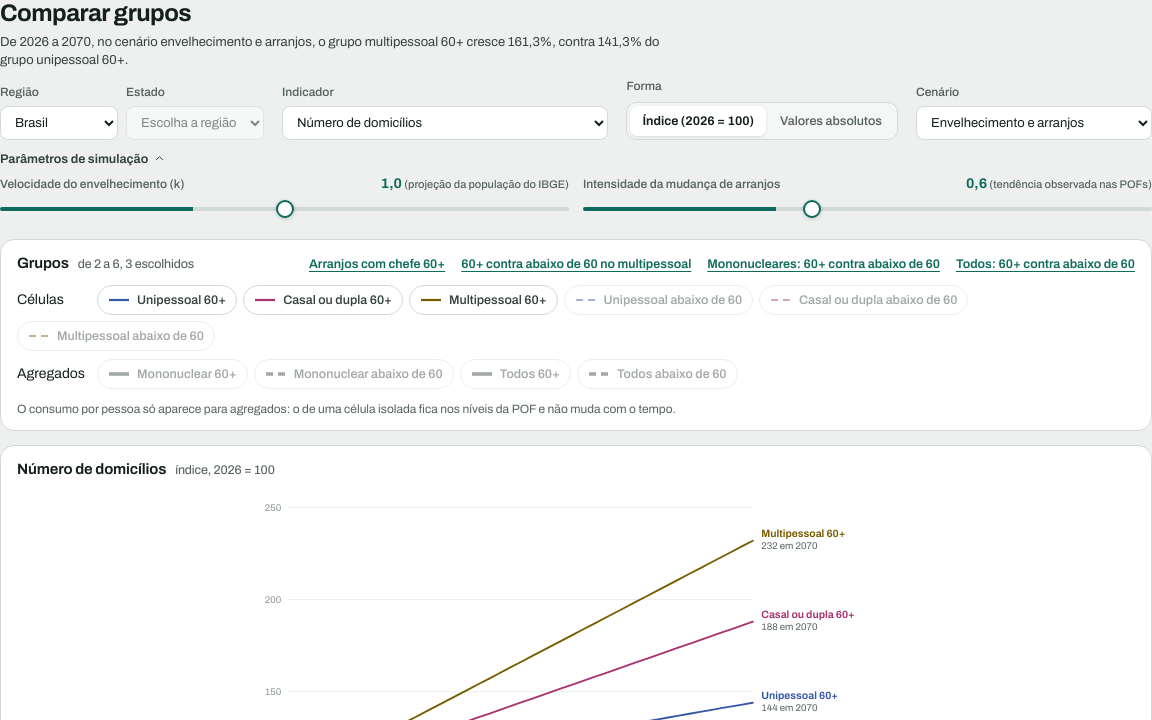
Scenario: Comparar › o consumo por pessoa só fica disponível com agregados, e a página explica por quê
The width and height of the screenshot is (1152, 720).
Expected: the text with test id "explica-por-pessoa" shows "O consumo por pessoa só aparece para agregados: o de uma célula isolada fica nos níveis da POF e não muda com o tempo.", [17, 402, 676, 416]
Click the button "Mononucleares: 60+ contra abaixo de 60" at (824, 264), box [707, 258, 940, 272]
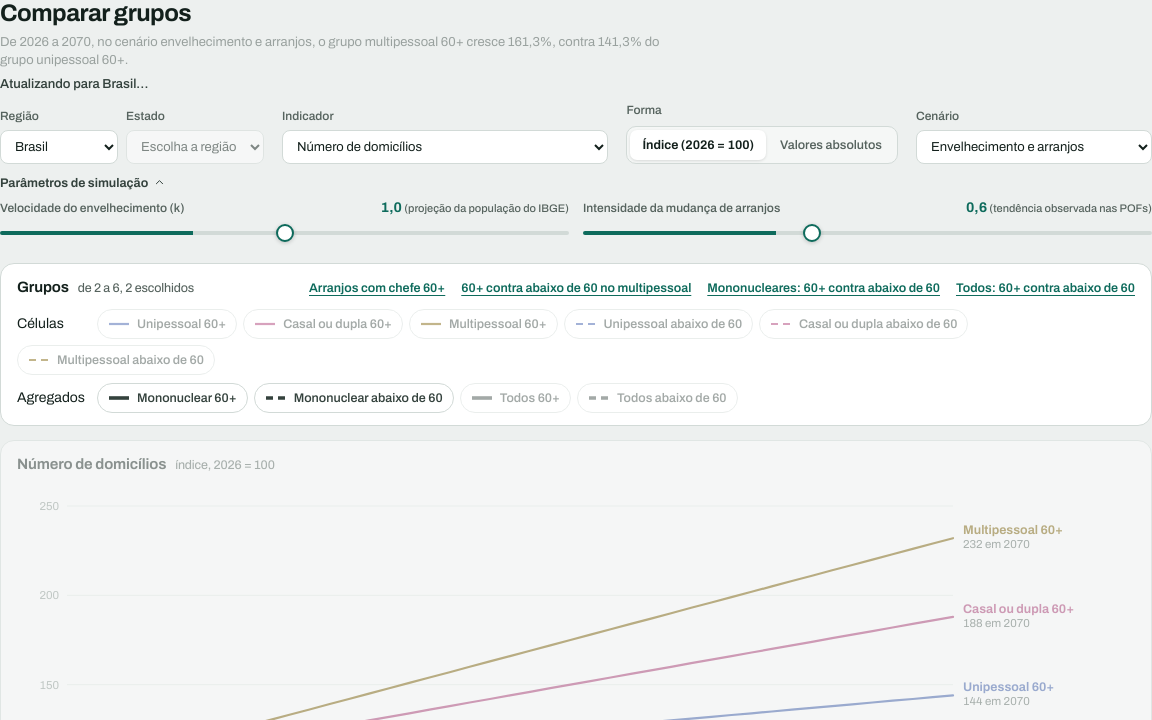
Expected: the text with test id "explica-por-pessoa" is gone
